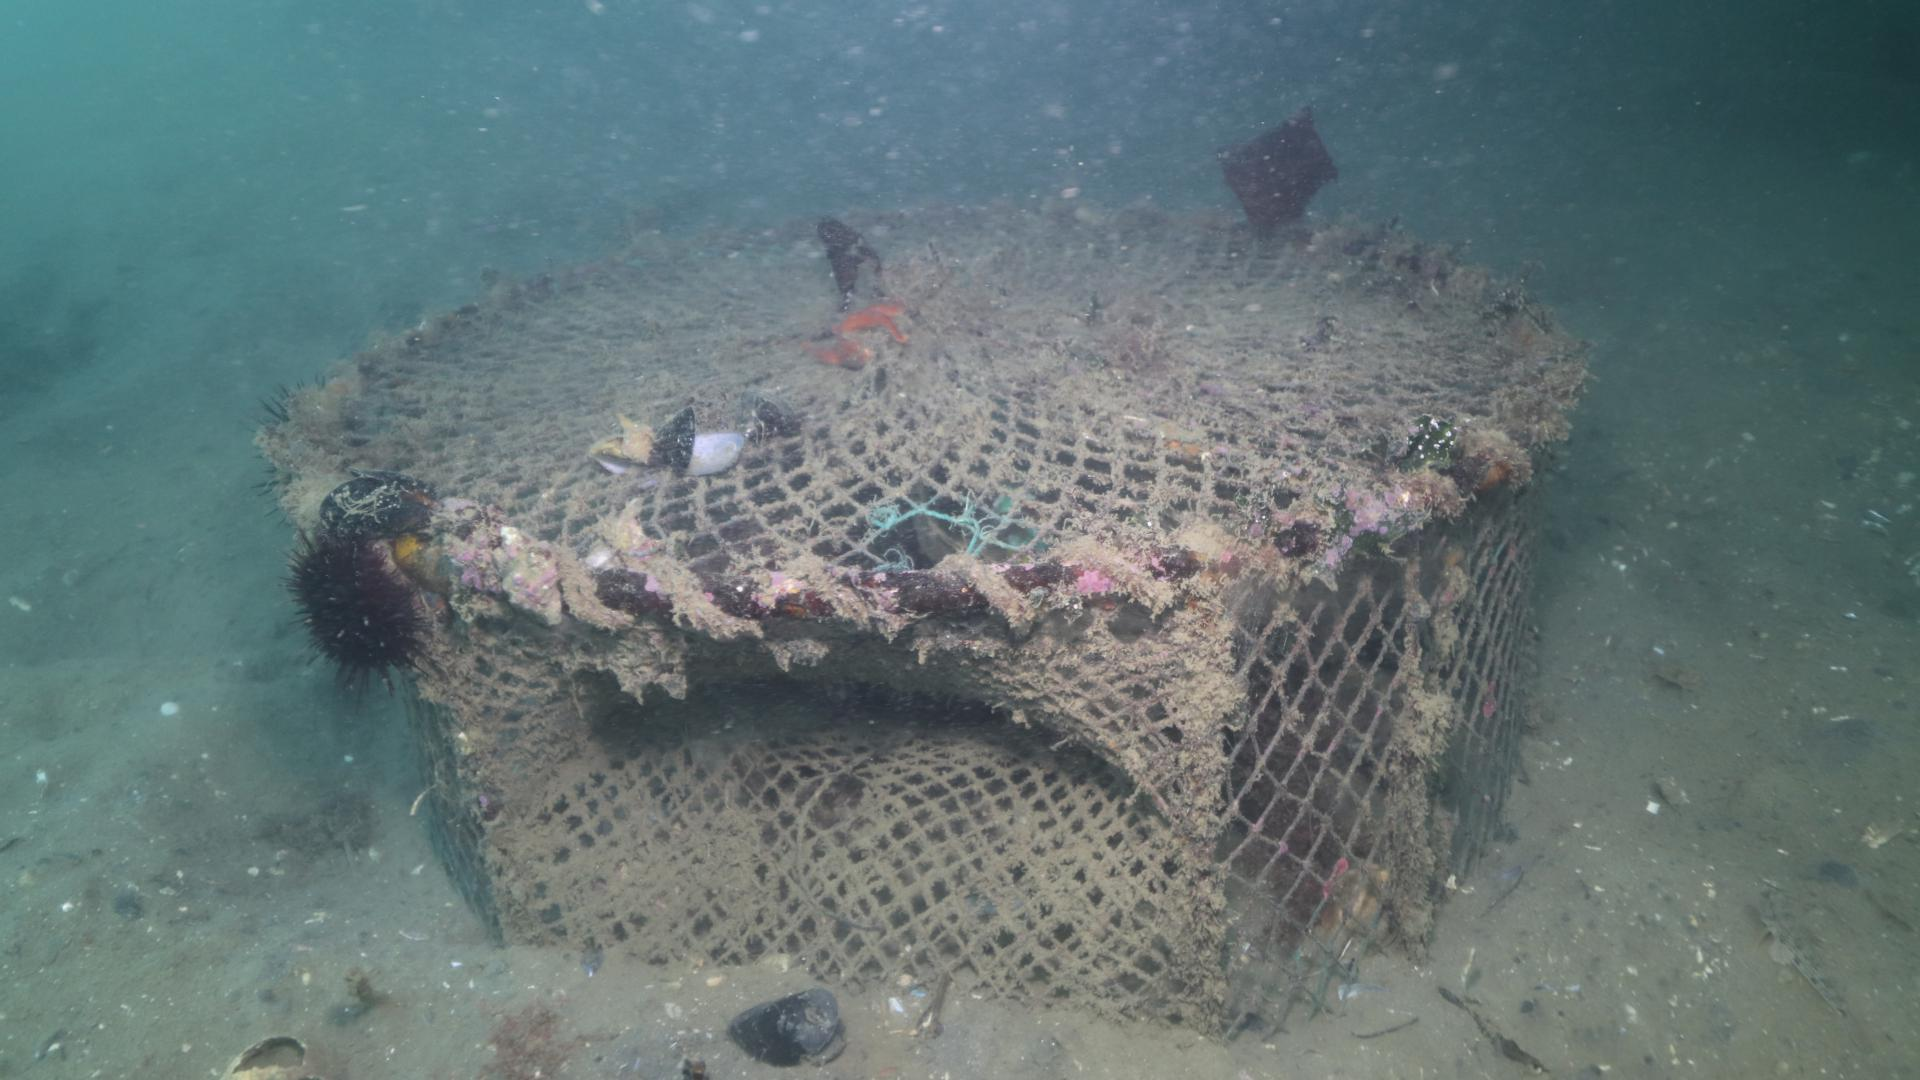circular fish trap: (266, 202, 1592, 1036)
